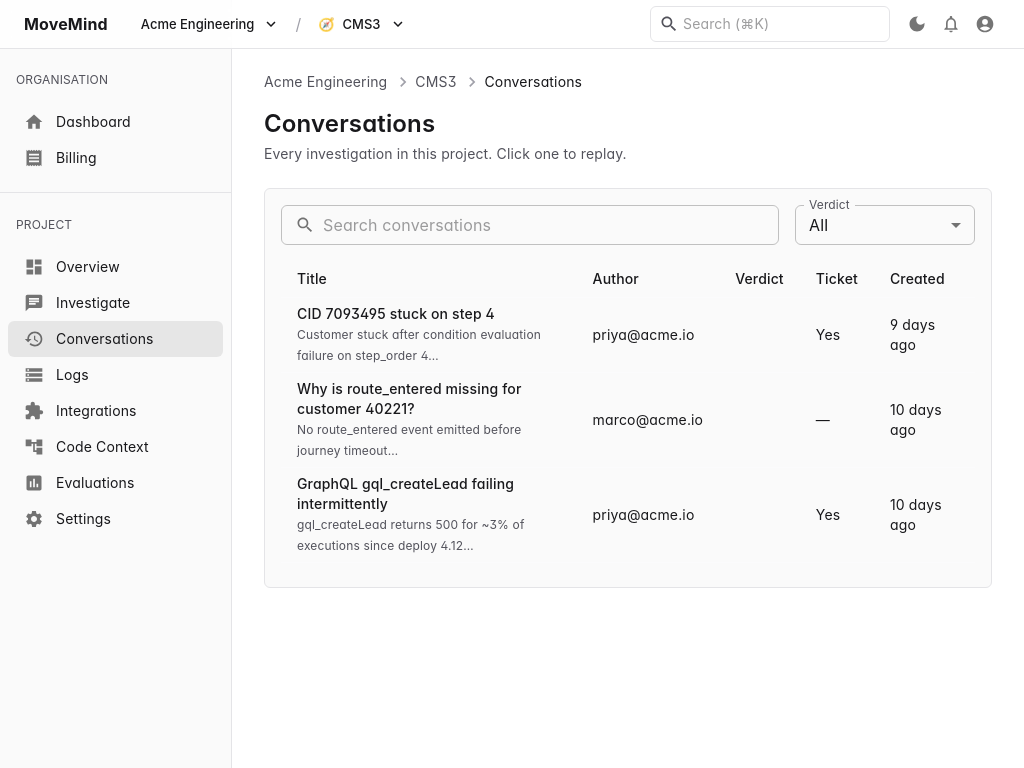
Test: ConversationsPage › filters rows by verdict using the dropdown
Expected: the field with placeholder "Search conversations" is shown, [323, 205, 779, 245]
Press the mouse on the dropdown named "verdict" at (819, 224), box [809, 214, 828, 234]
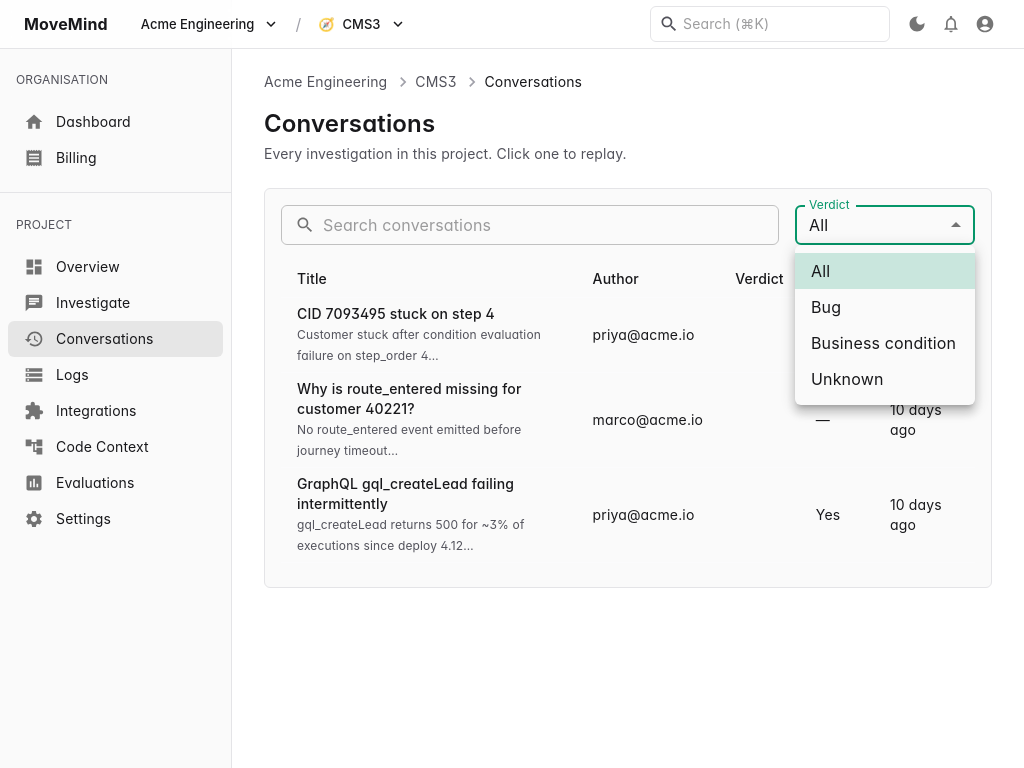
Click the option "Bug" at (826, 307), box [811, 297, 841, 317]
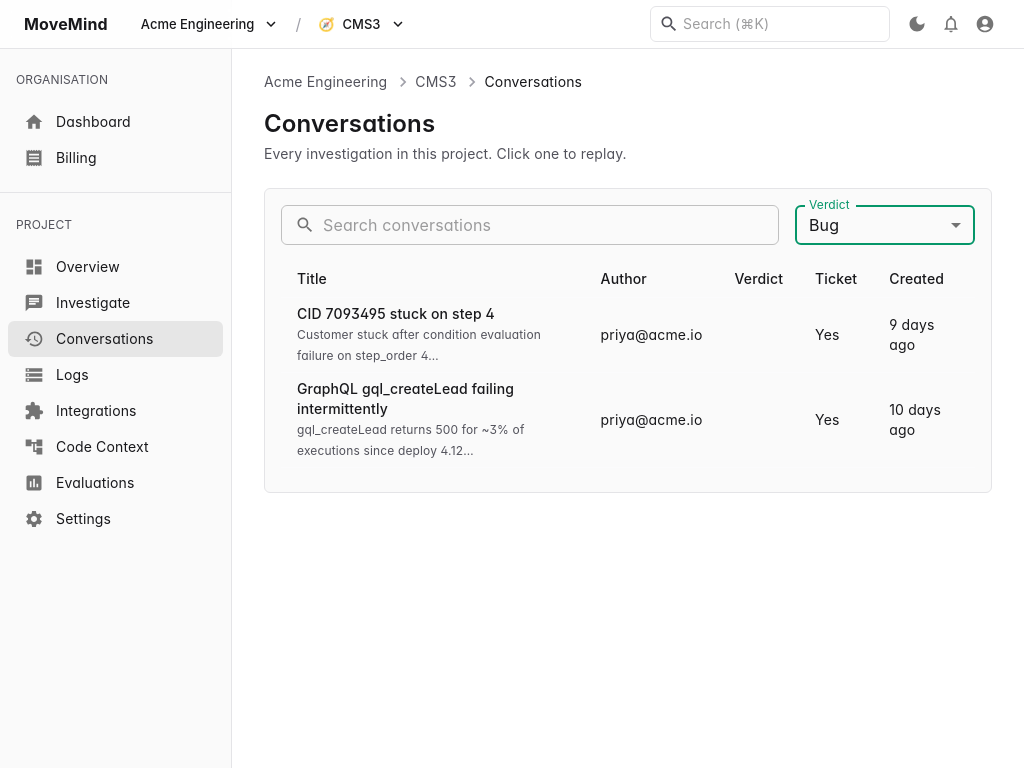
Now the option is gone
